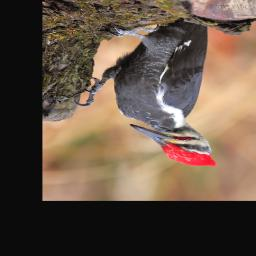Woodpecker: (73, 19, 217, 168)
